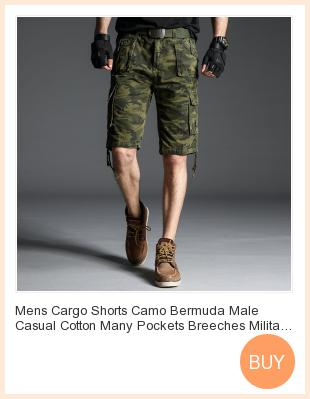pants: (98, 29, 201, 157)
